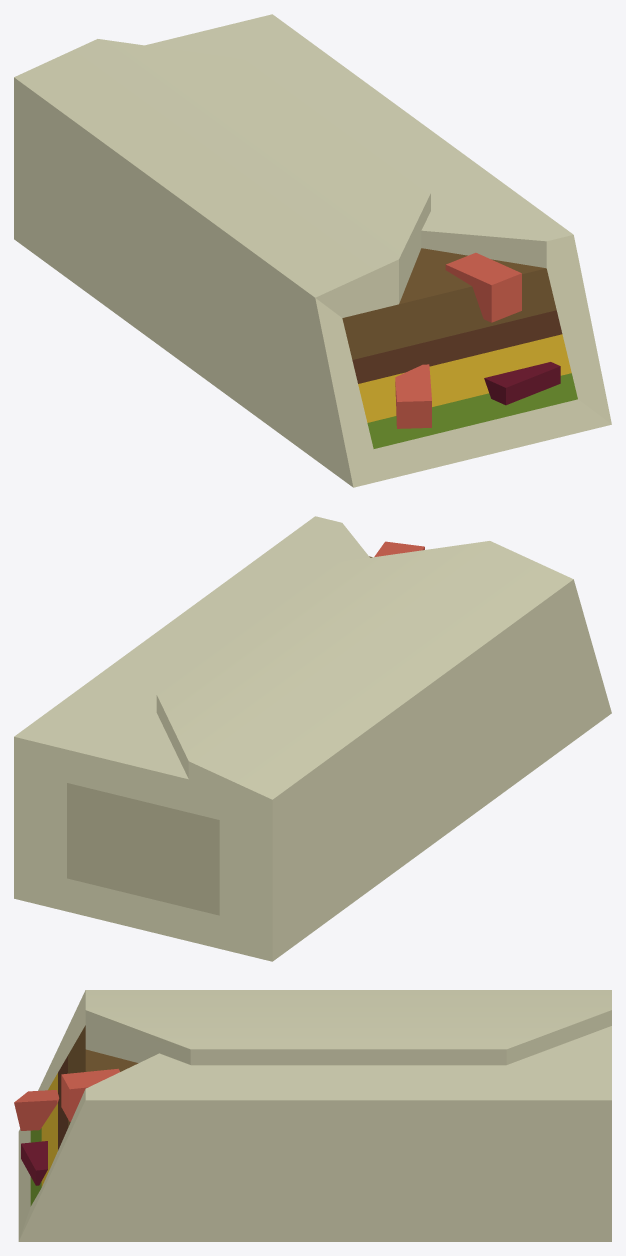
File: Burrito.glb
The picture shows the model from 3 angles, top to bottom: view 1: azimuth 30°, elevation 25°; view 2: azimuth 150°, elevation 25°; view 3: azimuth 270°, elevation 25°; orthographic projection. The views are drawn at different scales.
Visible parts, largest first — view 1: SI_Food_Burrito; view 2: SI_Food_Burrito; view 3: SI_Food_Burrito.
Boxes of the visible parts, x1=… form: SI_Food_Burrito: x1=14, y1=14, x2=611, y2=487; SI_Food_Burrito: x1=14, y1=516, x2=611, y2=961; SI_Food_Burrito: x1=14, y1=990, x2=611, y2=1241.
Bounding box in the file's own units: 0.00334 × 0.00222 × 0.00766.
Materials: 1 (1 with a texture image).
